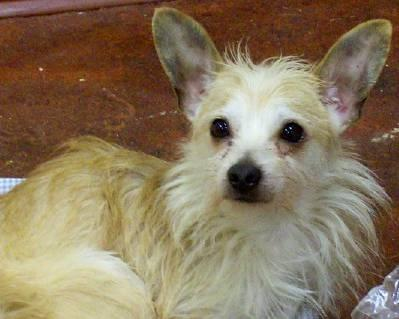dog: (0, 7, 391, 318)
